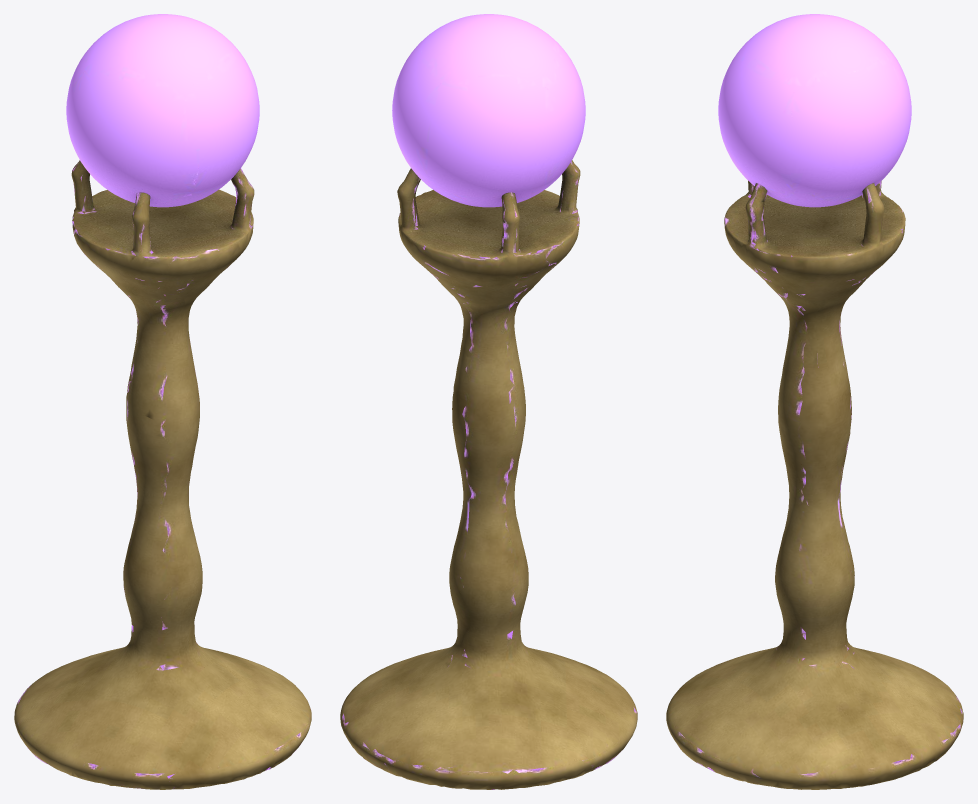
Rendered from crystal_ball.glb.
3 renders of one model, left to right at view 1: azimuth 30°, elevation 25°; view 2: azimuth 150°, elevation 25°; view 3: azimuth 270°, elevation 25°, orthographic.
Visible parts, largest first — view 1: Orb_Stand, Crystal_Orb; view 2: Orb_Stand, Crystal_Orb; view 3: Orb_Stand, Crystal_Orb.
Part boxes in pixels (x1,y1,x2,y2): Orb_Stand: (14,160,311,789); Crystal_Orb: (66,14,259,207); Orb_Stand: (340,160,637,789); Crystal_Orb: (392,14,585,207); Orb_Stand: (666,180,963,789); Crystal_Orb: (718,14,911,207).
Bounding box in the file's own units: 0.5217 × 1.37 × 0.5222.
1 material, 1 textured.
